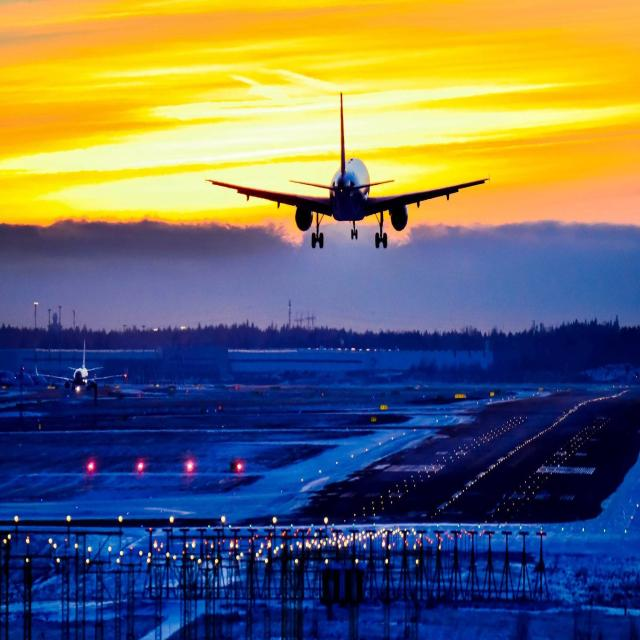plain: (212, 89, 498, 243)
